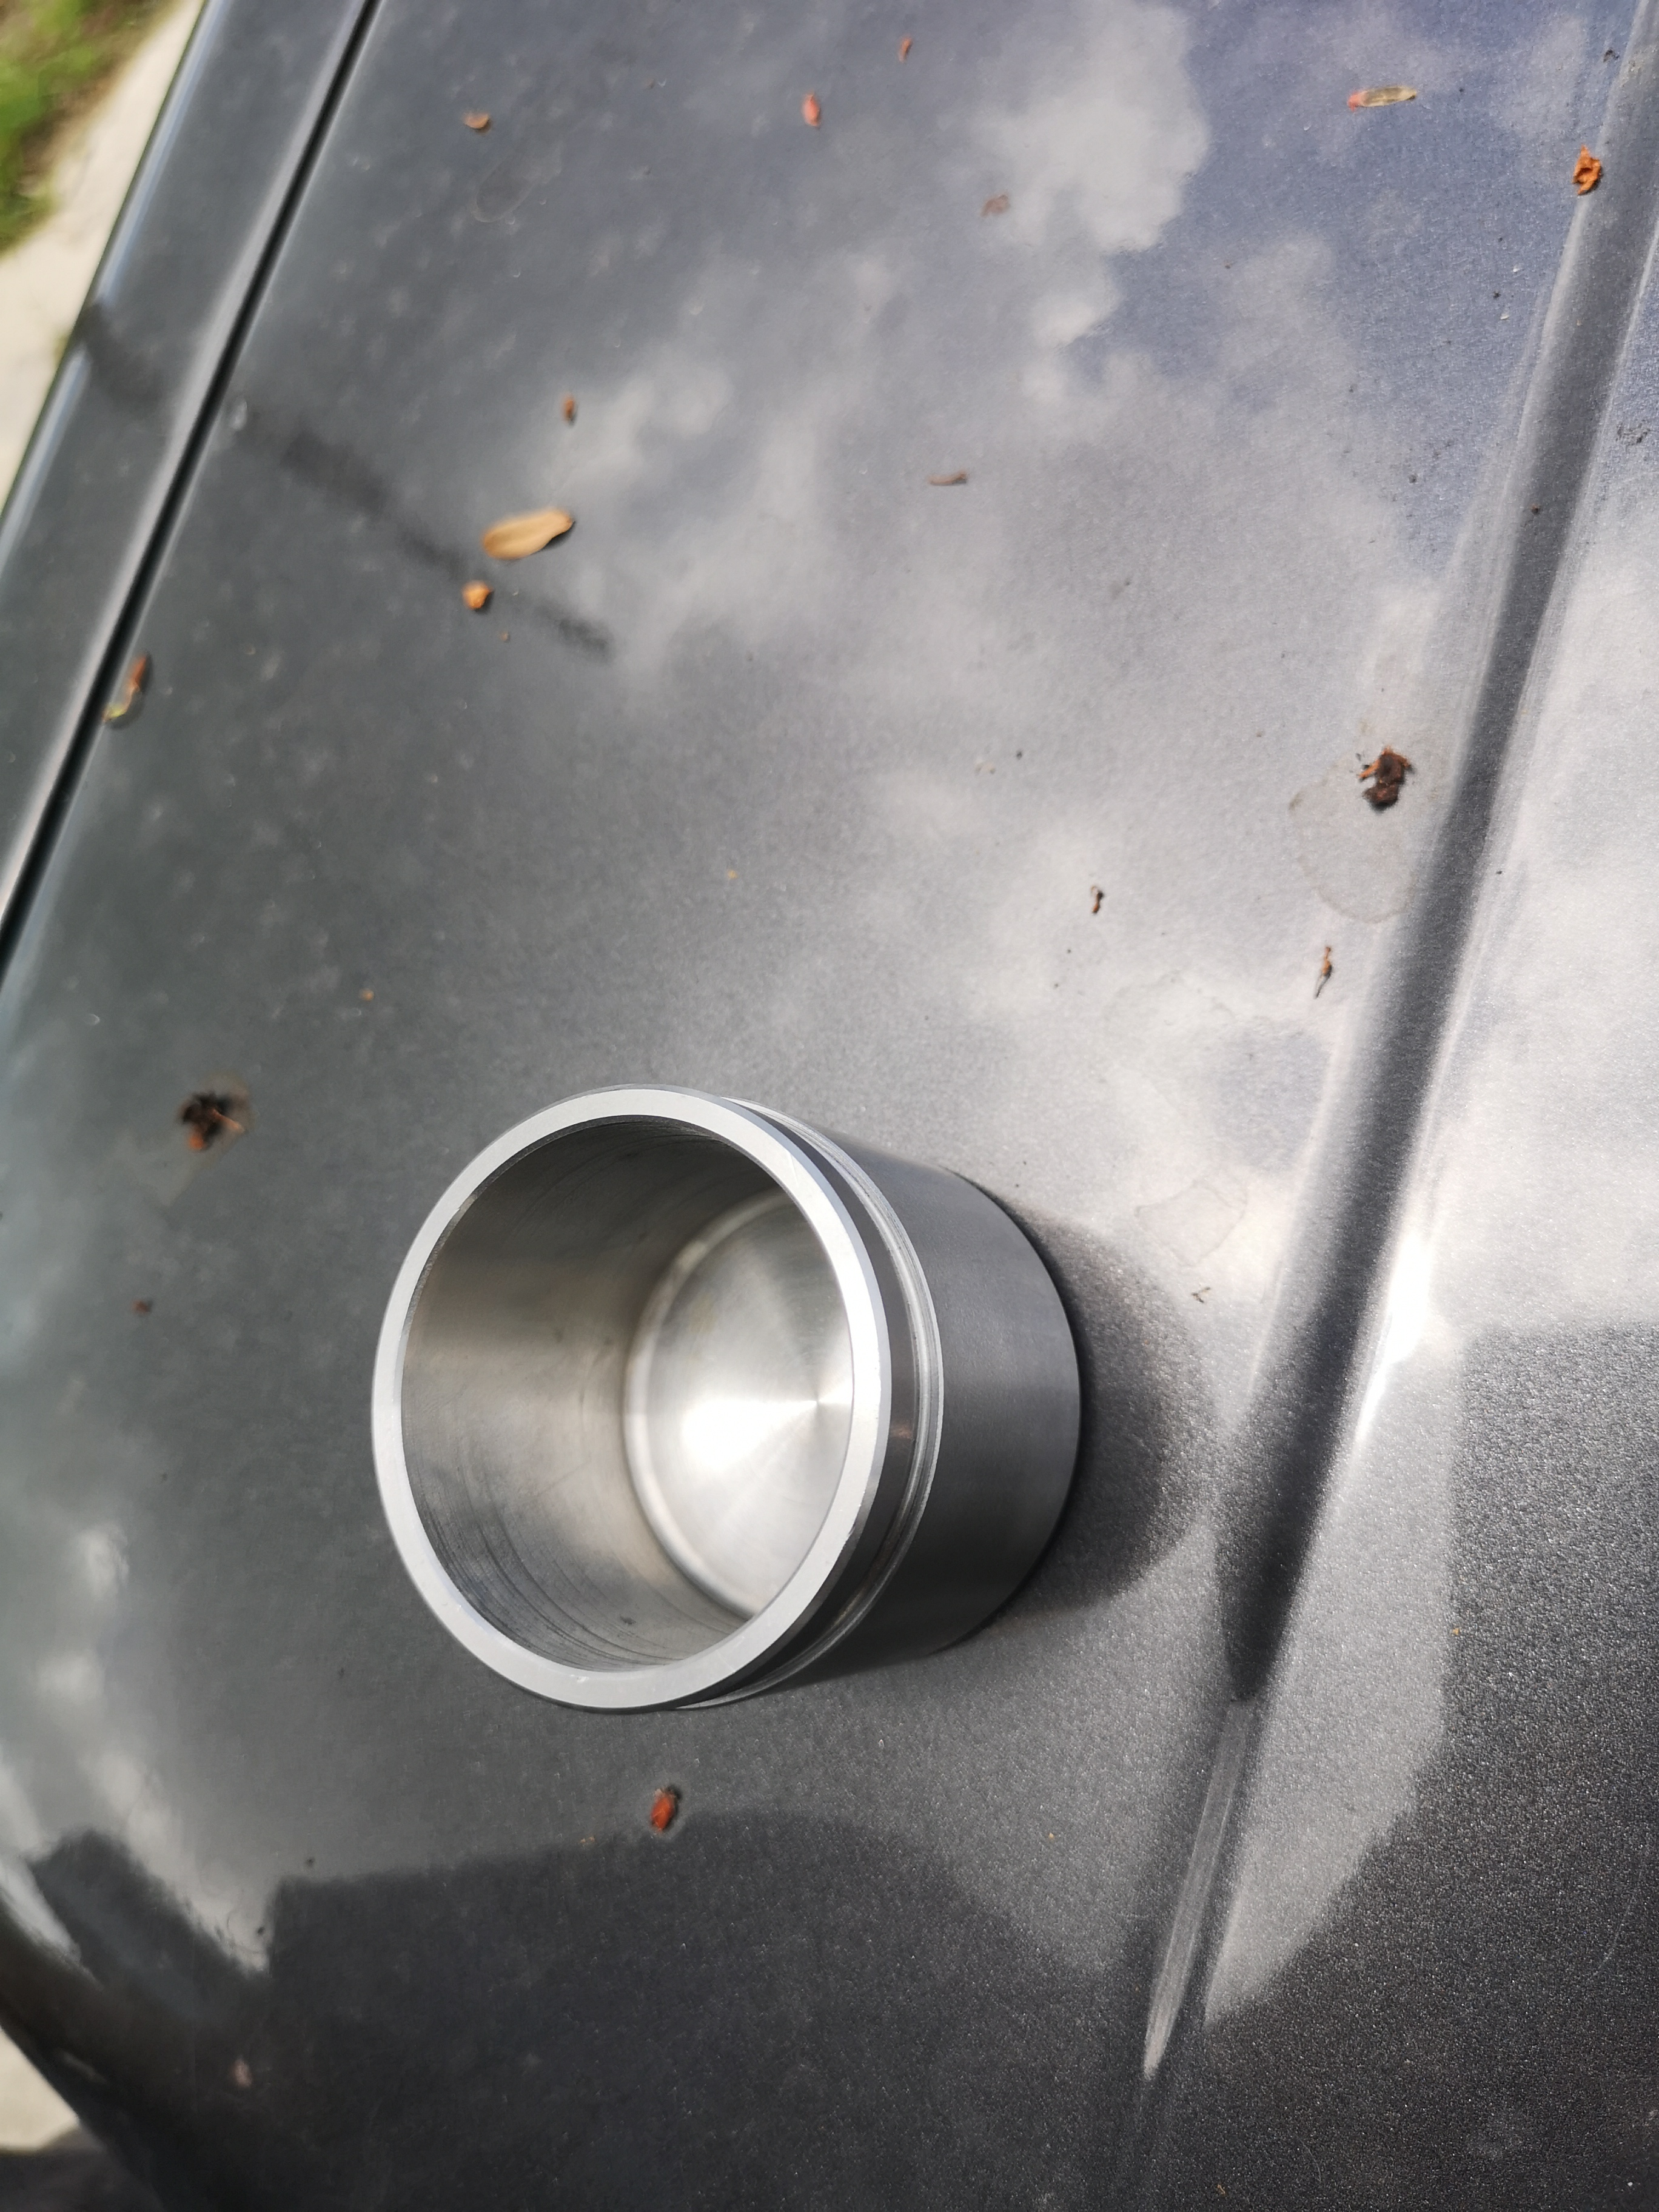ลูกสูบดิสเบรค: (329, 1055, 1129, 1855)
